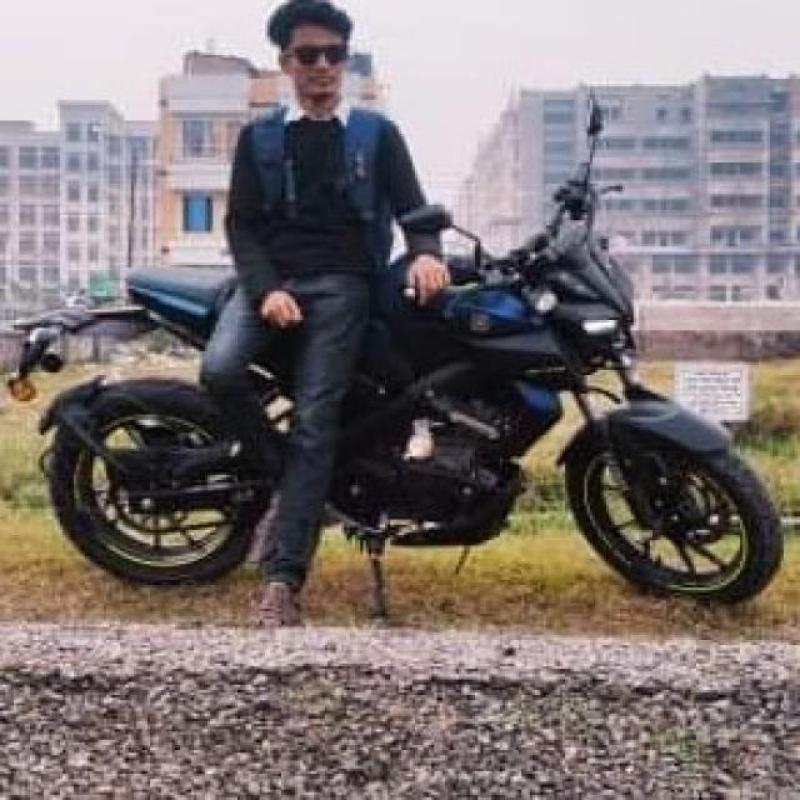nohelmet: (260, 0, 366, 105)
